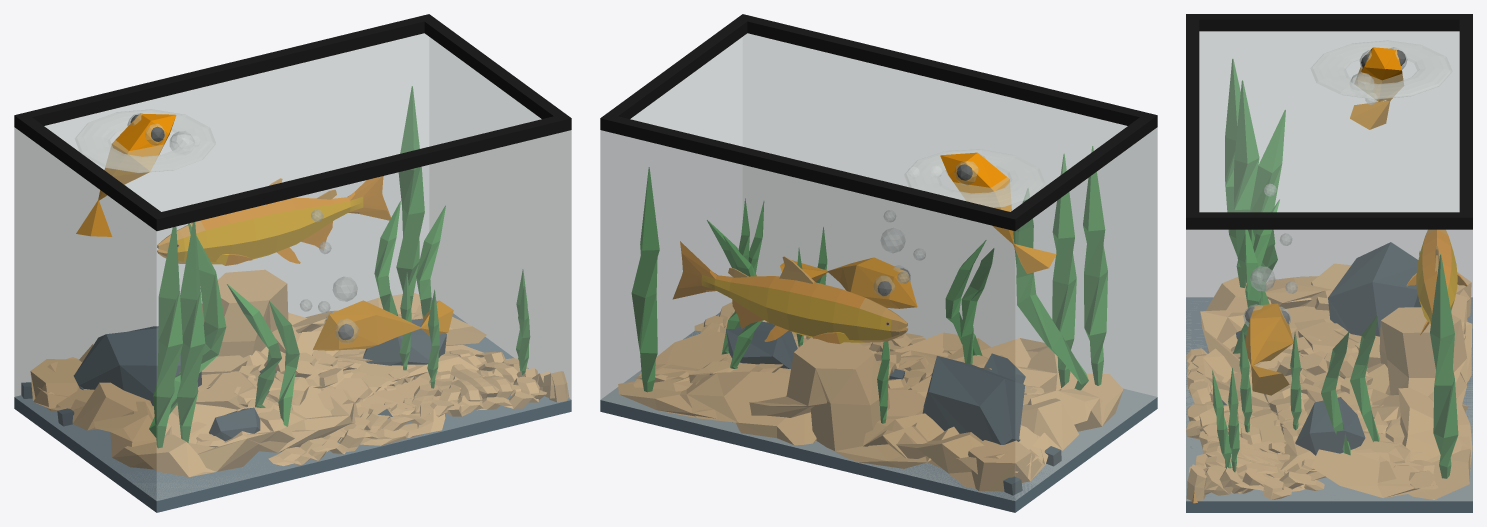
The model's file is Fish.fbx.
3 views of the same model, side by side, from view 1: azimuth 30°, elevation 25°; view 2: azimuth 150°, elevation 25°; view 3: azimuth 270°, elevation 25° (orthographic).
Parts seen in each view (by area): view 1: Geo_Salmon1; view 2: Geo_Salmon1; view 3: Geo_Salmon1.
Part boxes in pixels (x1,y1,x2,y2): Geo_Salmon1: (14, 14, 571, 512); Geo_Salmon1: (600, 14, 1157, 512); Geo_Salmon1: (1186, 14, 1472, 512).
Bounding box in the file's own units: 8.98 × 6.25 × 5.33.
Materials: 8 (1 with a texture image).
